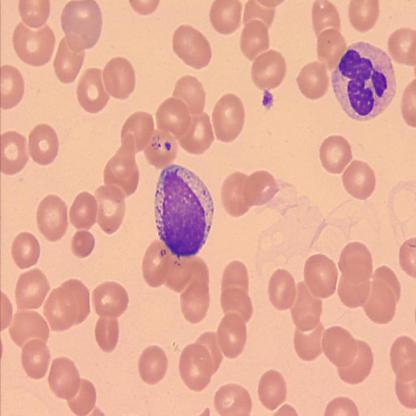Myelocyte: (155, 164, 218, 256), (332, 43, 398, 122)
